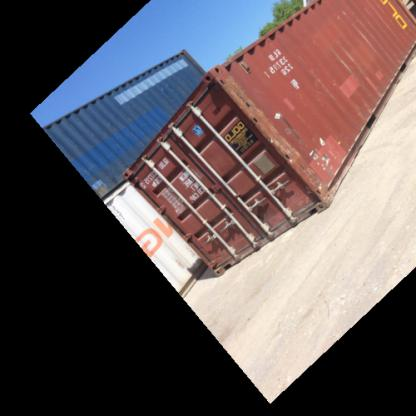Damage: (225, 78, 342, 193), (348, 20, 378, 49), (361, 71, 382, 96), (334, 45, 352, 70), (331, 7, 346, 20)
